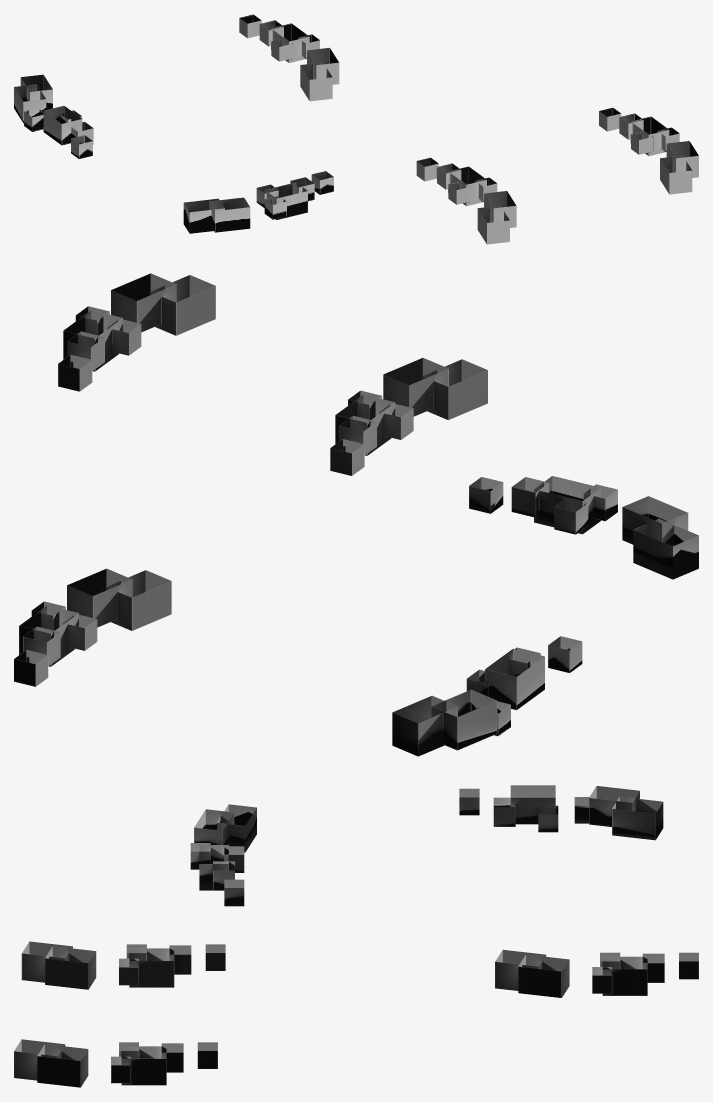
Rendered from new_building.fbx.
3 views of the same model, one above another, from view 1: azimuth 30°, elevation 25°; view 2: azimuth 150°, elevation 25°; view 3: azimuth 270°, elevation 25° (orthographic). The views are drawn at different scales.
Parts seen in each view (by area): view 1: pasted__pCube73; view 2: pasted__pCube73; view 3: pasted__pCube73.
Boxes of the visible parts, box(x1,y1,x2,y2) form: pasted__pCube73: box(14, 14, 698, 244); pasted__pCube73: box(14, 273, 698, 756); pasted__pCube73: box(14, 785, 698, 1087).
Size of the model in its own units: 62 by 4.48 by 64.44.
